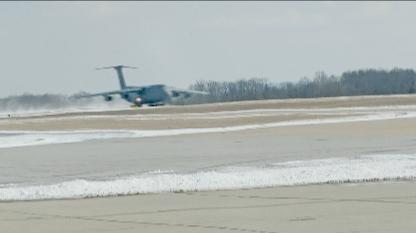C17: (66, 65, 210, 107)
